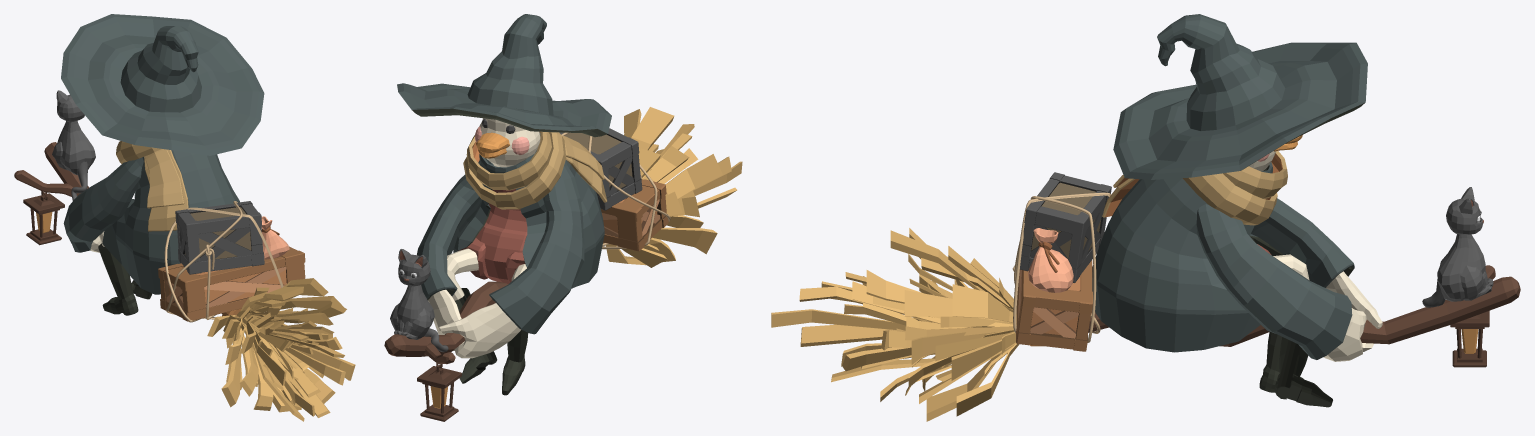
The model's file is duck2.fbx.
3 views of the same model, side by side, from view 1: azimuth 30°, elevation 25°; view 2: azimuth 150°, elevation 25°; view 3: azimuth 270°, elevation 25° (orthographic). The views are drawn at different scales.
Parts seen in each view (by area): view 1: Cylinder.001; view 2: Cylinder.001; view 3: Cylinder.001.
Boxes of the visible parts, box(x1,y1,x2,y2) form: Cylinder.001: box(14, 14, 355, 421); Cylinder.001: box(384, 14, 742, 421); Cylinder.001: box(771, 14, 1520, 421).
Size of the model in its own units: 313 by 528 by 908.
